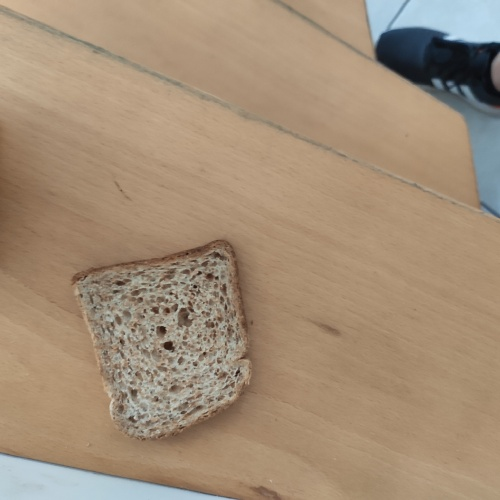pane: (66, 236, 254, 444)
